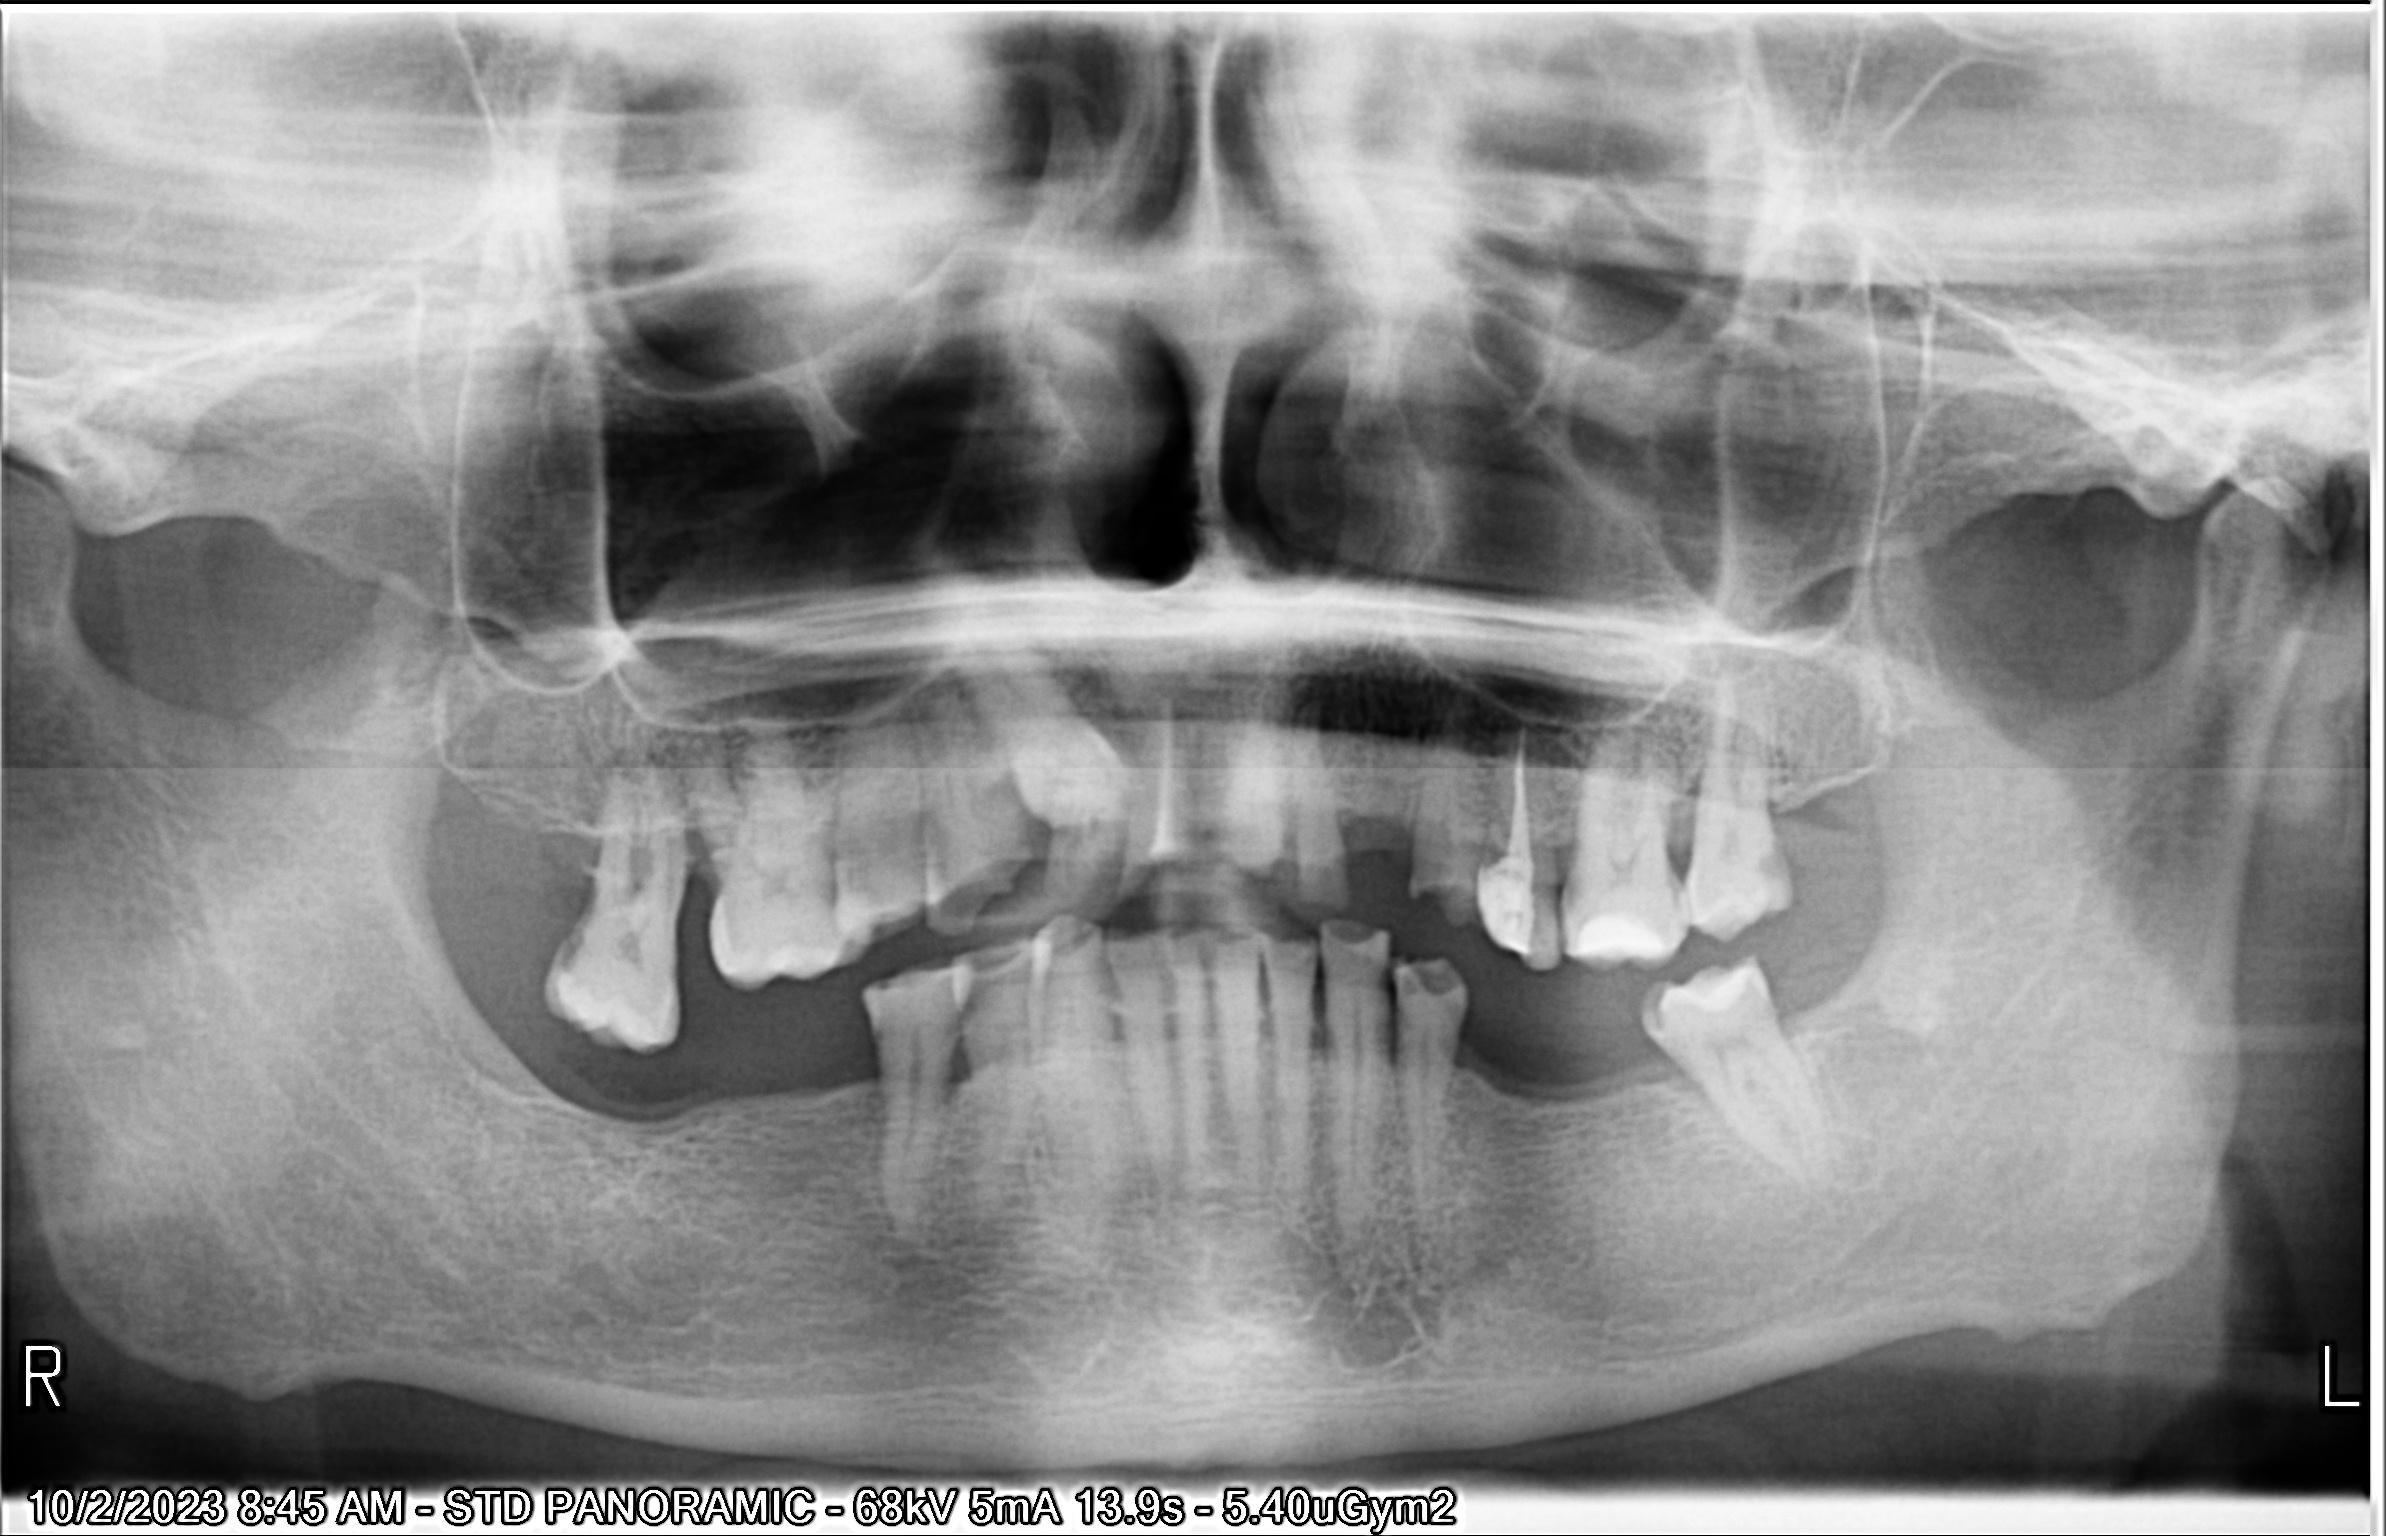BON: (774, 501, 2386, 1536), (803, 324, 2386, 1164), (292, 348, 1017, 1244), (238, 344, 856, 1225)
CAR: (788, 456, 2386, 1496), (673, 398, 2141, 1338), (840, 384, 2386, 1270), (402, 343, 1442, 1286)
END: (730, 278, 2275, 1150), (546, 252, 1736, 1112)
FUR: (278, 364, 946, 1277)
IMT: (315, 139, 1463, 981)
OBT: (776, 440, 2386, 1459), (723, 423, 2386, 1388), (699, 360, 2242, 1338)
ROT: (602, 263, 1949, 1169), (576, 252, 1856, 1145)
